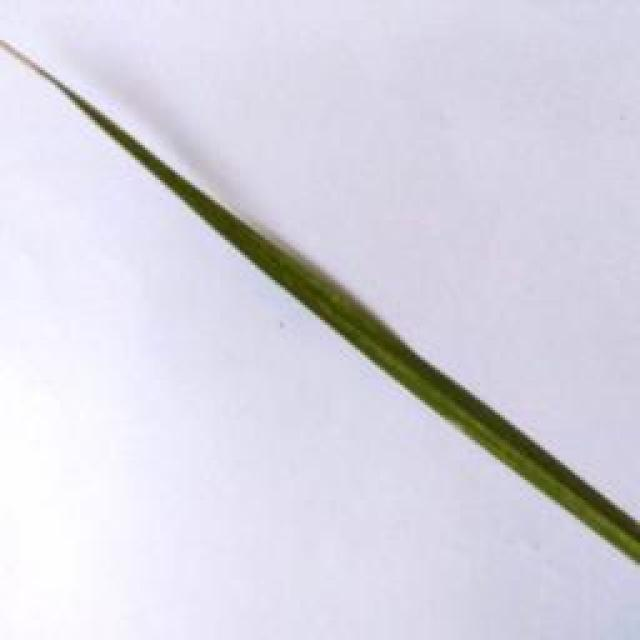Healthy-Plant: (66, 84, 640, 560)
